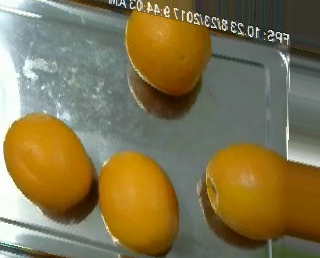Orange: (2, 111, 93, 213), (97, 149, 181, 255)
